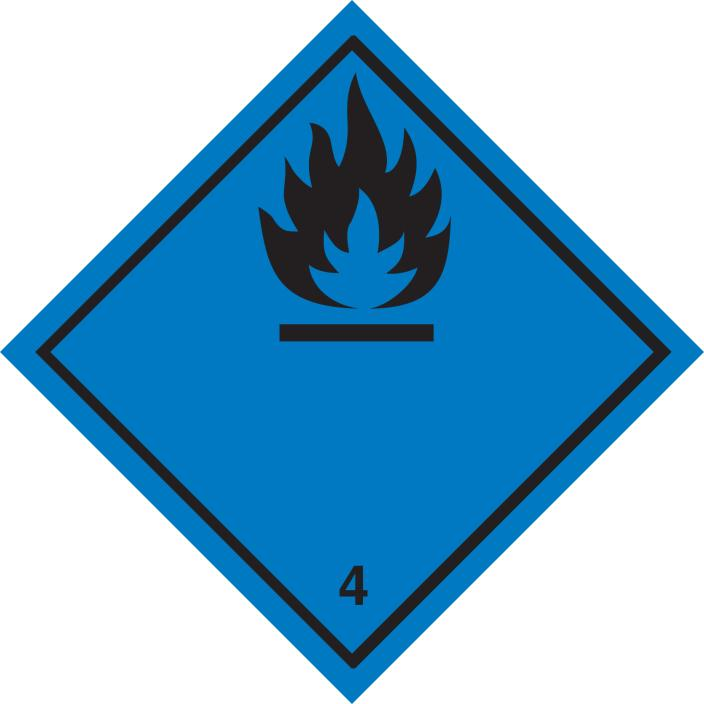clock: (5, 4, 698, 700)
